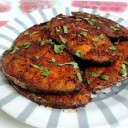seerfish: (1, 43, 82, 94), (50, 15, 118, 63), (89, 35, 128, 93)
